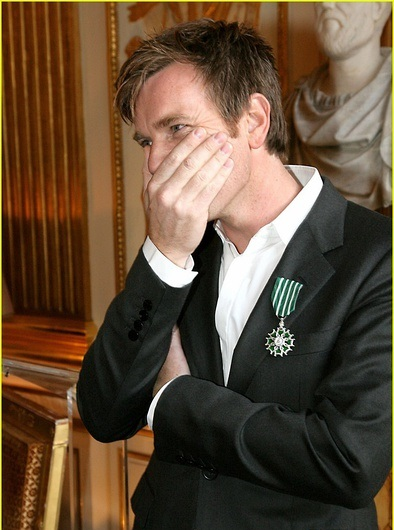face: (134, 62, 233, 235)
